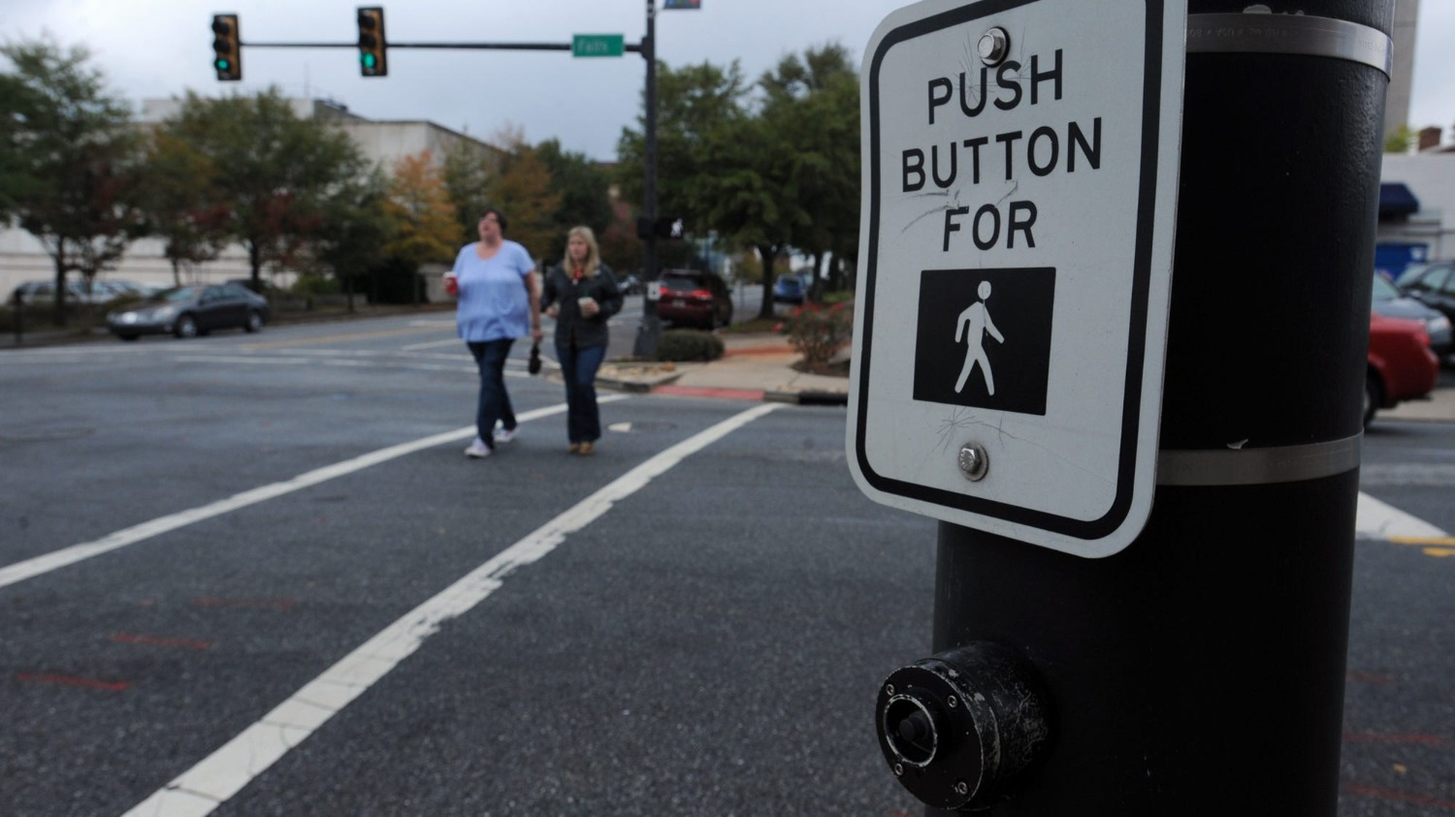crosswalk: (0, 386, 771, 816)
